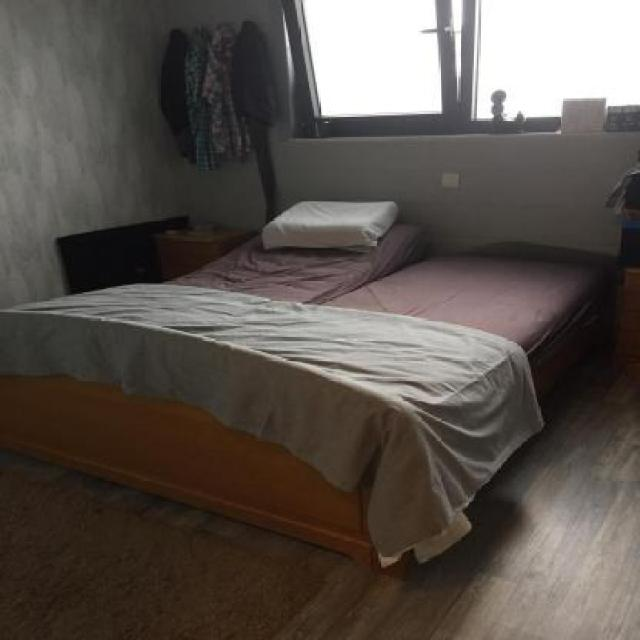Floor: (1, 337, 640, 639)
